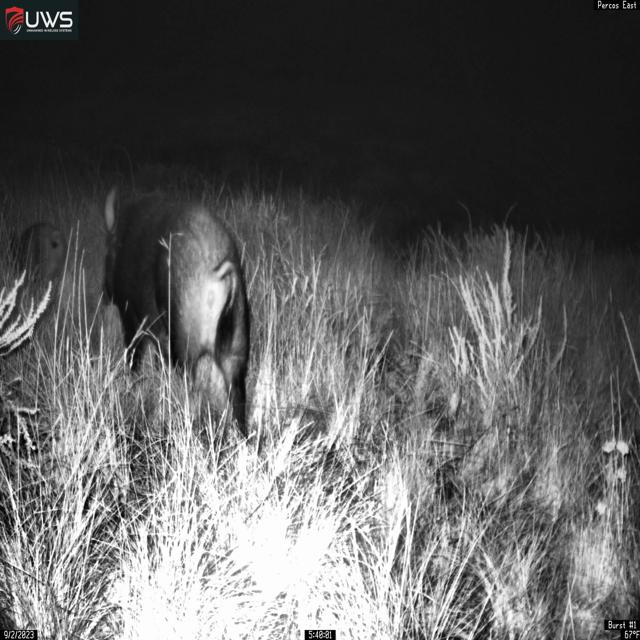pig: (101, 185, 252, 443)
